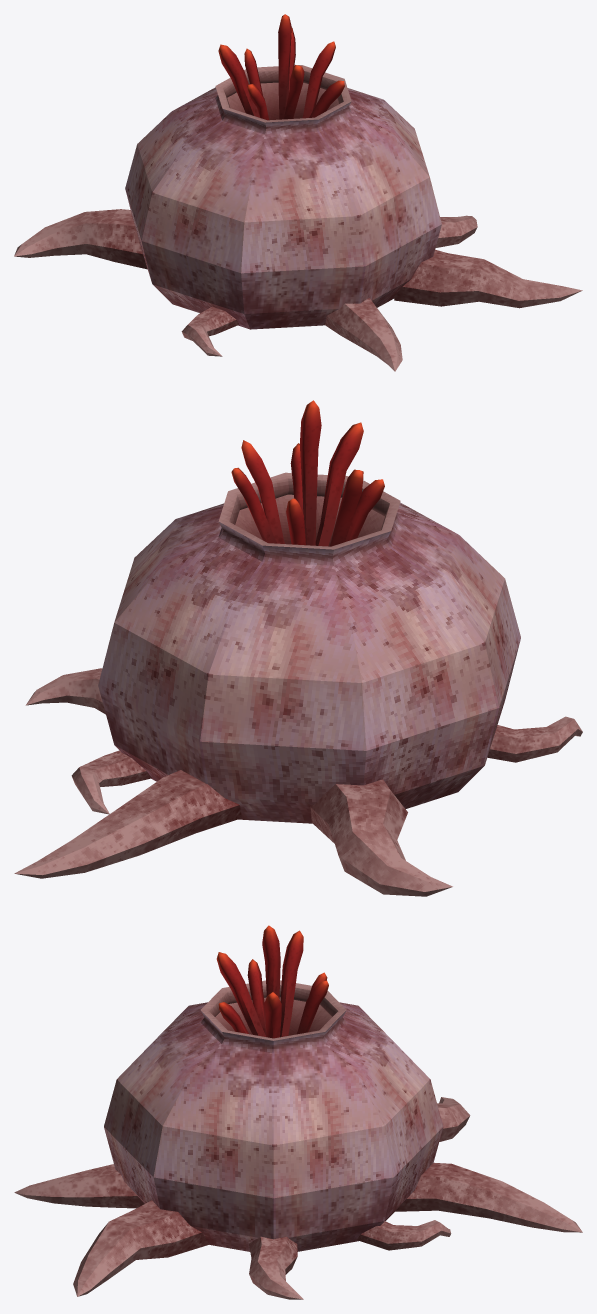
File: fungus_spore_cloud_01.fbx
3 renders of one model, top to bottom at view 1: azimuth 30°, elevation 25°; view 2: azimuth 150°, elevation 25°; view 3: azimuth 270°, elevation 25°, orthographic. The views are drawn at different scales.
Parts seen in each view (by area): view 1: body, pCone3, pCone4, pCone2, pCone7, pCylinder3, pCylinder5, pCone5, pCylinder7, pCylinder1, pCylinder8; view 2: body, pCone6, pCone4, pCone7, pCone8, pCylinder3, pCylinder1, pCone5, pCylinder7, pCylinder5, pCylinder6, pCylinder2 (+1 smaller); view 3: body, pCone6, pCone3, pCone2, pCone5, pCone8, pCylinder5, pCylinder1, pCylinder3, pCone4, pCylinder2, pCylinder6 (+1 smaller).
Part boxes in pixels (x1,y1,x2,y2): body: (125, 65, 441, 329); pCone3: (394, 249, 582, 308); pCone4: (14, 209, 147, 269); pCone2: (325, 298, 402, 371); pCone7: (181, 307, 239, 356); pCylinder3: (278, 14, 291, 119); pCylinder5: (218, 44, 260, 117); pCone5: (435, 215, 477, 247); pCylinder7: (302, 41, 335, 118); pCylinder1: (284, 65, 304, 119); pCylinder8: (309, 80, 344, 117); body: (98, 472, 520, 823); pCone6: (14, 770, 241, 878); pCone4: (310, 779, 452, 896); pCone7: (487, 716, 582, 762); pCone8: (71, 750, 151, 814); pCylinder3: (299, 400, 321, 545); pCylinder1: (315, 422, 363, 546); pCone5: (25, 668, 105, 714); pCylinder7: (241, 440, 284, 543); pCylinder5: (330, 469, 363, 546); pCylinder6: (231, 467, 277, 543); pCylinder2: (345, 479, 384, 541); body: (104, 980, 443, 1251); pCone6: (395, 1162, 582, 1232); pCone3: (73, 1200, 209, 1296); pCone2: (14, 1164, 144, 1208); pCone5: (249, 1236, 303, 1299); pCone8: (357, 1220, 451, 1250); pCylinder5: (280, 930, 303, 1037); pCylinder1: (216, 952, 265, 1036); pCylinder3: (262, 925, 280, 998); pCone4: (437, 1097, 470, 1141); pCylinder2: (247, 959, 266, 1036); pCylinder6: (296, 980, 328, 1034).
Bounding box in the file's own units: 2.77 × 1.78 × 3.35.
